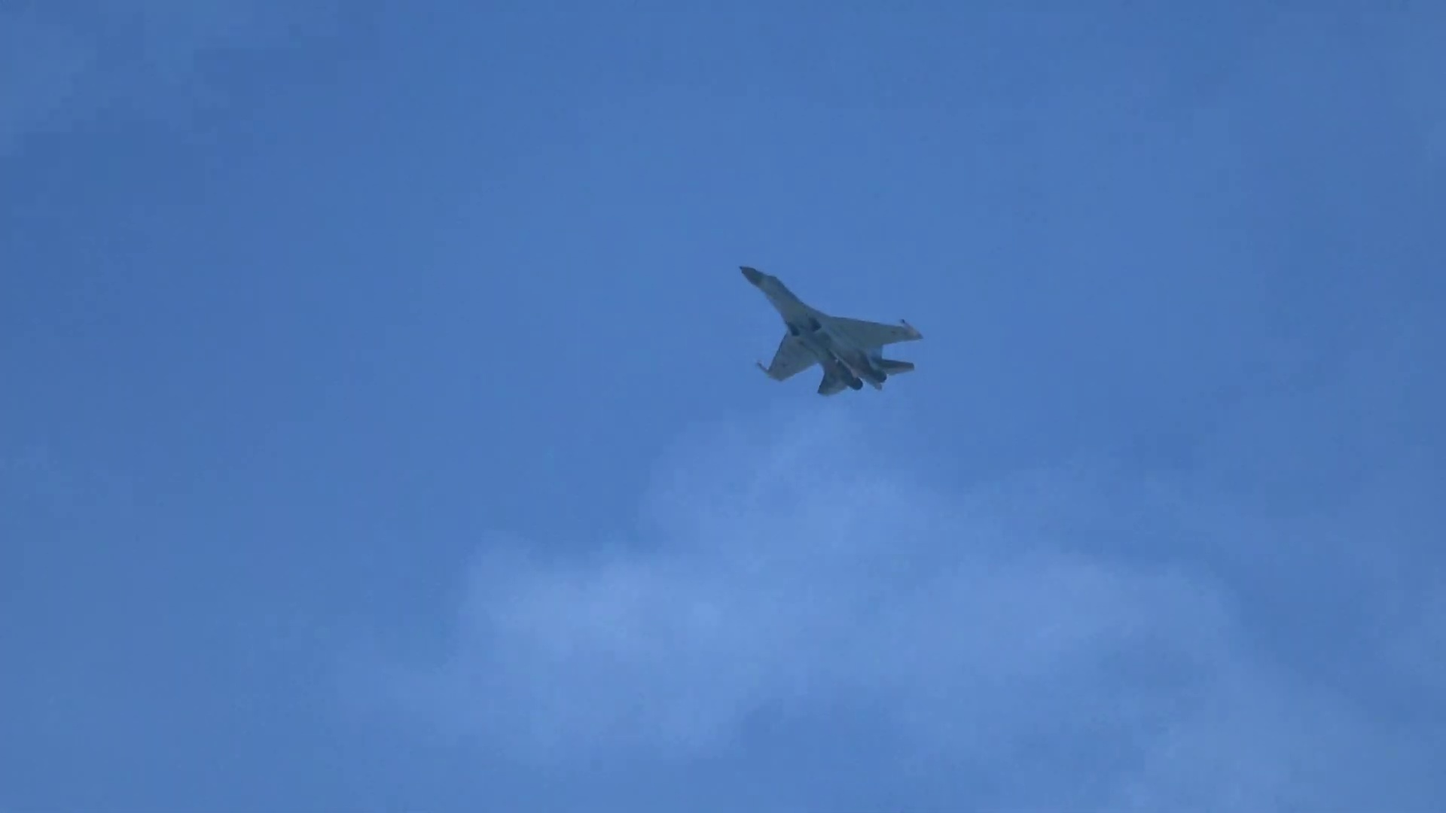Su35: (739, 266, 924, 396)
